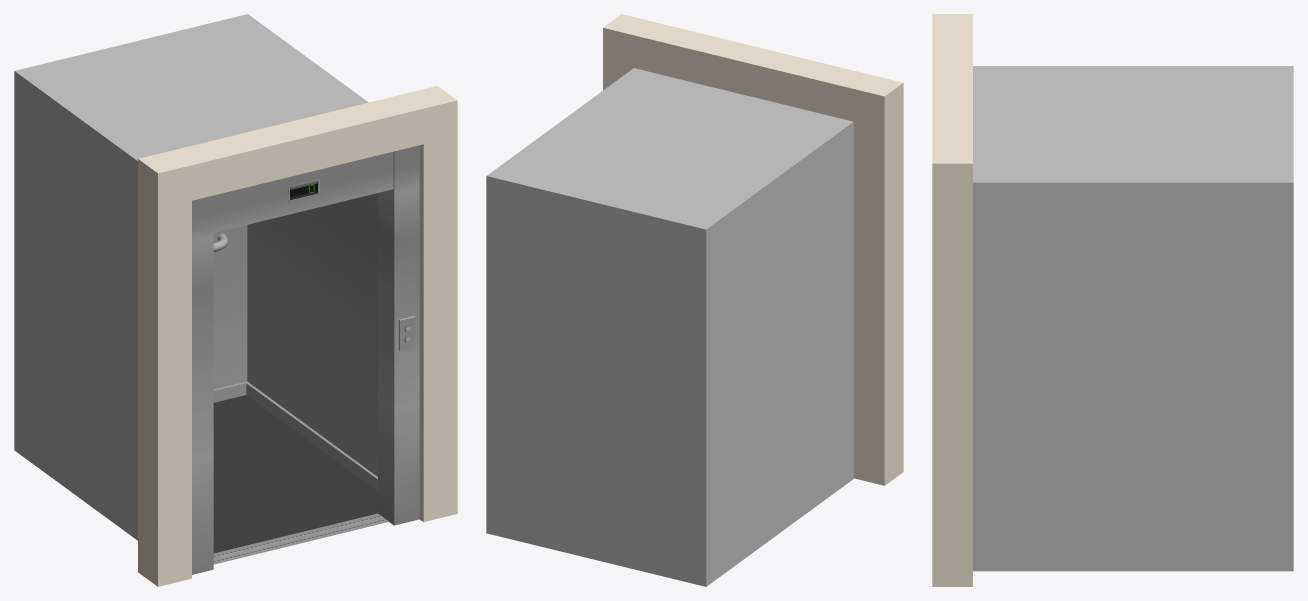
File: elevator-door.glb
3 renders of one model, left to right at view 1: azimuth 30°, elevation 25°; view 2: azimuth 150°, elevation 25°; view 3: azimuth 270°, elevation 25°, orthographic. The views are drawn at different scales.
Visible parts, largest first — view 1: Object_8, Object_13, Object_2, Object_4, Object_9, Object_6, Object_12; view 2: Object_8, Object_2; view 3: Object_8, Object_2.
Part boxes in pixels (<box>): Object_8: <box>14,14,368,540</box>; Object_13: <box>192,145,419,574</box>; Object_2: <box>138,86,457,586</box>; Object_4: <box>213,395,377,553</box>; Object_9: <box>213,381,377,490</box>; Object_6: <box>213,513,388,564</box>; Object_12: <box>288,179,415,351</box>; Object_8: <box>486,68,853,586</box>; Object_2: <box>603,14,903,485</box>; Object_8: <box>973,66,1293,571</box>; Object_2: <box>932,14,972,586</box>.
Bounding box in the file's own units: 1.74 × 2.3 × 1.78.
Materials: 10 (3 with a texture image).
